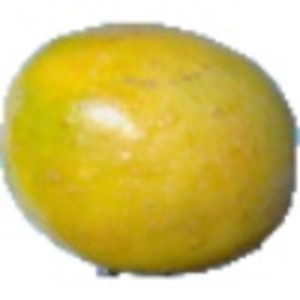maracujá: (1, 20, 300, 280)
